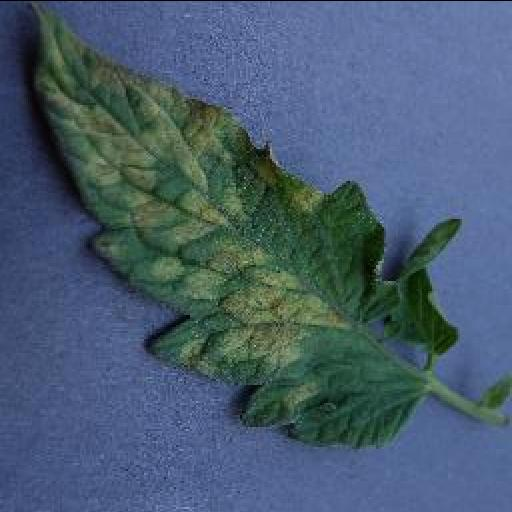disease_tomato: (24, 0, 426, 450)
